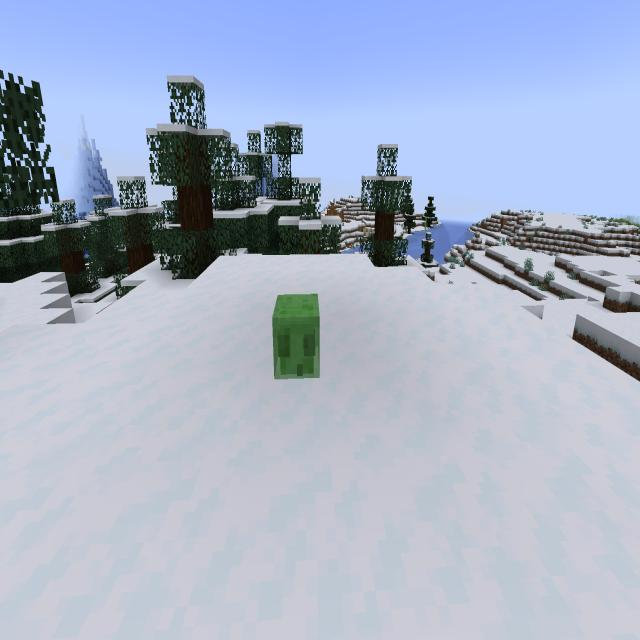Slime: (264, 281, 328, 390)
